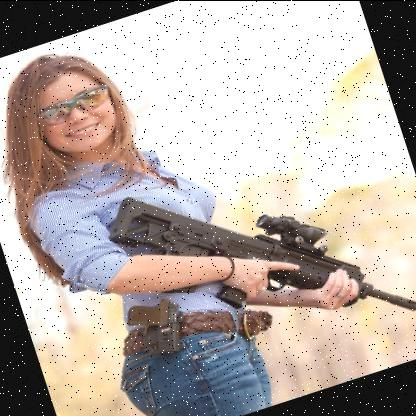rifle: (95, 114, 416, 396)
